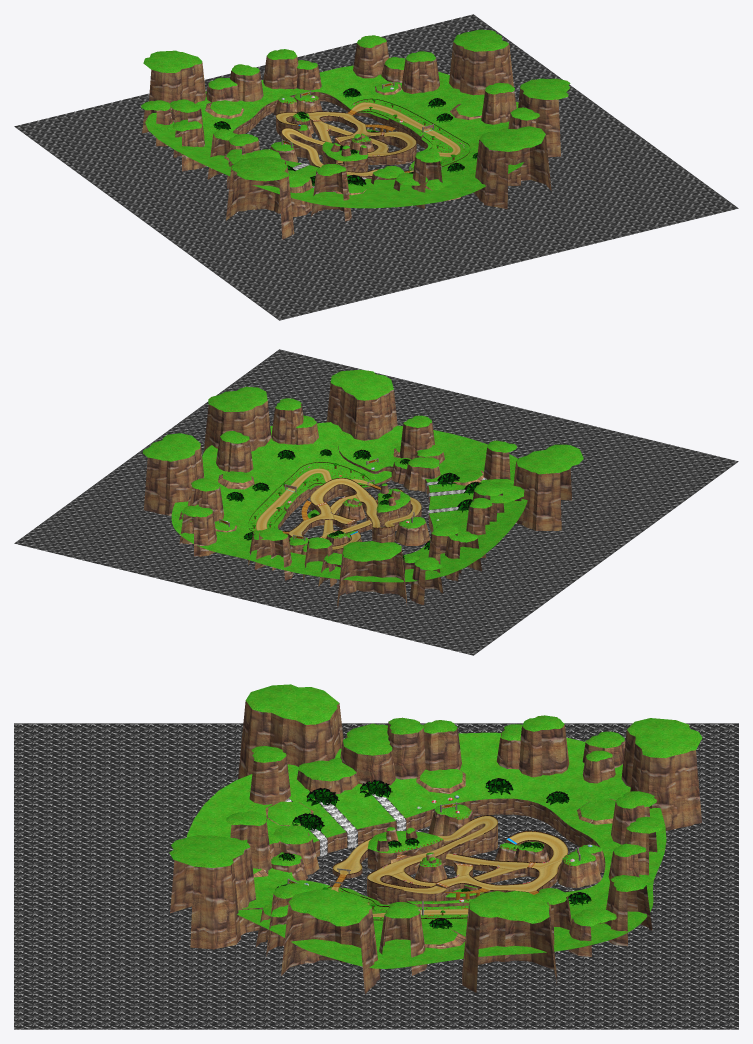
3 views of the same model, one above another, from view 1: azimuth 30°, elevation 25°; view 2: azimuth 150°, elevation 25°; view 3: azimuth 270°, elevation 25° (orthographic). The views are drawn at different scales.
Visible parts, largest first — view 1: obj_pochaMesh.003, obj_rockMesh.005, obj_grassMesh.007, obj_roadMesh.006, obj_bushMesh.003, obj_fenceMesh.004; view 2: obj_pochaMesh.003, obj_grassMesh.007, obj_rockMesh.005, obj_roadMesh.006, obj_bushMesh.003, obj_fenceMesh.004; view 3: obj_pochaMesh.003, obj_rockMesh.005, obj_grassMesh.007, obj_roadMesh.006, obj_bushMesh.003, obj_fenceMesh.004, obj_fallsMesh.002.
Boxes of the visible parts, x1,y1,x2,y2 form: obj_pochaMesh.003: [14, 14, 738, 320]; obj_rockMesh.005: [142, 41, 560, 239]; obj_grassMesh.007: [141, 29, 570, 208]; obj_roadMesh.006: [276, 102, 460, 175]; obj_bushMesh.003: [213, 88, 477, 186]; obj_fenceMesh.004: [276, 98, 469, 176]; obj_pochaMesh.003: [14, 349, 738, 655]; obj_grassMesh.007: [142, 369, 583, 582]; obj_rockMesh.005: [143, 383, 571, 608]; obj_roadMesh.006: [256, 468, 421, 549]; obj_bushMesh.003: [226, 449, 481, 559]; obj_fenceMesh.004: [248, 462, 421, 550]; obj_pochaMesh.003: [14, 723, 738, 1029]; obj_rockMesh.005: [170, 701, 701, 993]; obj_grassMesh.007: [169, 684, 702, 968]; obj_roadMesh.006: [331, 816, 567, 916]; obj_bushMesh.003: [277, 778, 591, 928]; obj_fenceMesh.004: [327, 815, 567, 920]; obj_fallsMesh.002: [285, 794, 406, 856].
Bounding box in the file's own units: 190000 × 25908 × 190000.
Materials: 23 (23 with a texture image).
